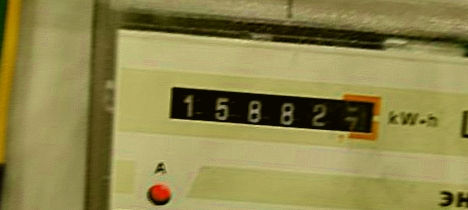1: (181, 90, 197, 116)
2: (311, 99, 328, 125)
5: (213, 92, 231, 119)
7: (344, 110, 359, 130)
8: (246, 96, 264, 123), (279, 98, 296, 124)
screen: (154, 67, 392, 150)
